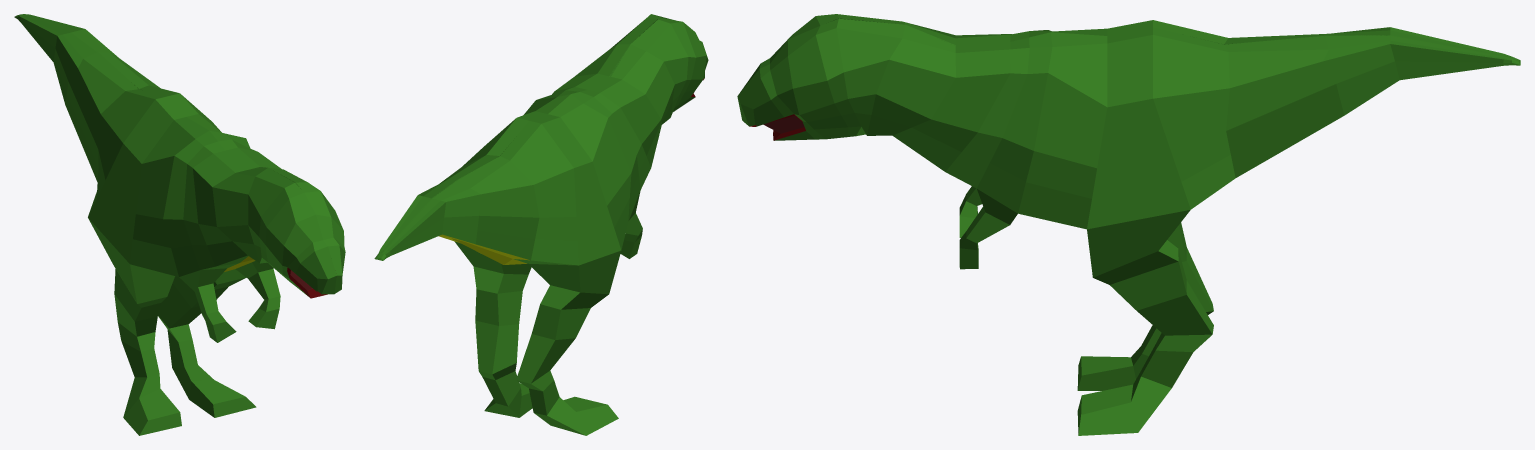
File: dino.fbx
3 renders of one model, left to right at view 1: azimuth 30°, elevation 25°; view 2: azimuth 150°, elevation 25°; view 3: azimuth 270°, elevation 25°, orthographic. The views are drawn at different scales.
Visible parts, largest first — view 1: Plane; view 2: Plane; view 3: Plane.
Part boxes in pixels (bbox=[...]): Plane: bbox=[14, 14, 345, 435]; Plane: bbox=[374, 14, 708, 435]; Plane: bbox=[737, 14, 1520, 435].
Bounding box in the file's own units: 225 × 520 × 961.
